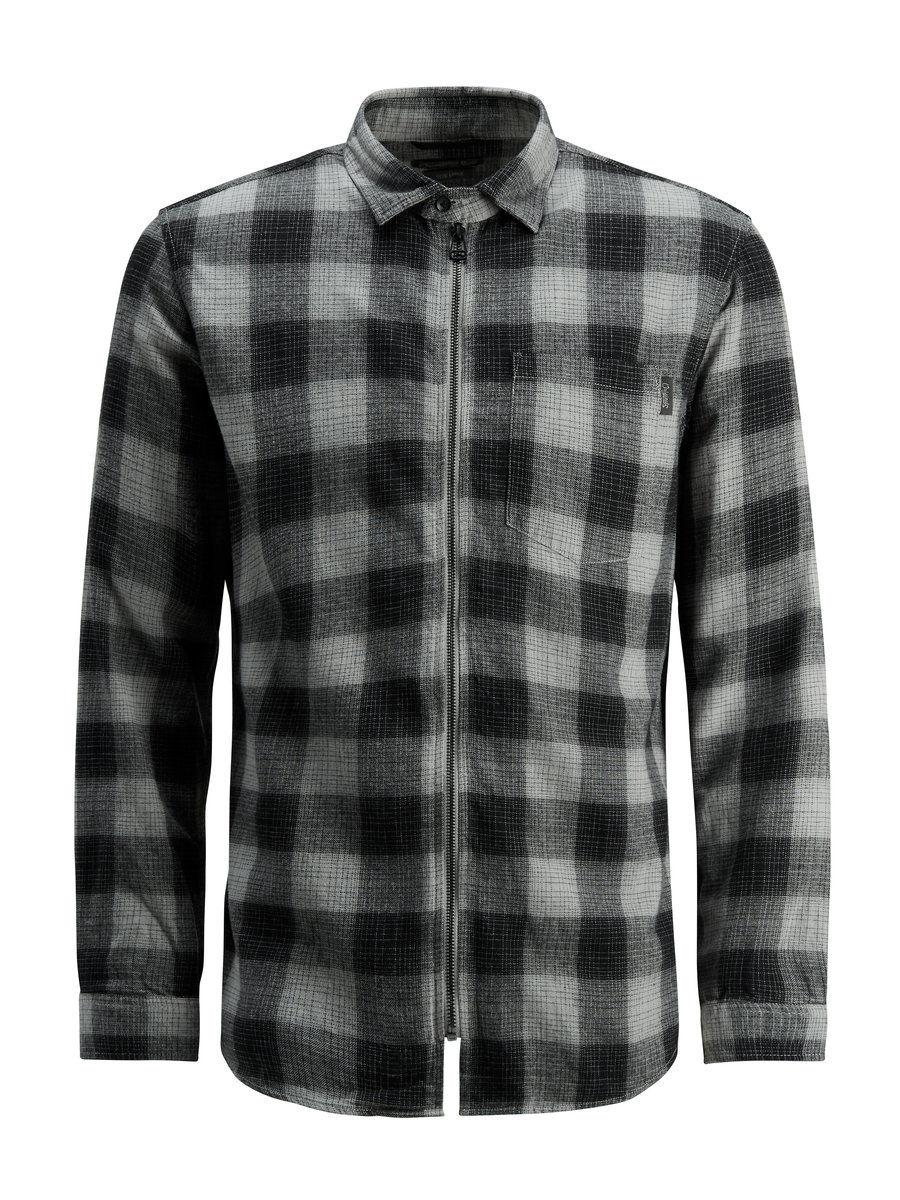teeshirt: (29, 71, 838, 1140)
